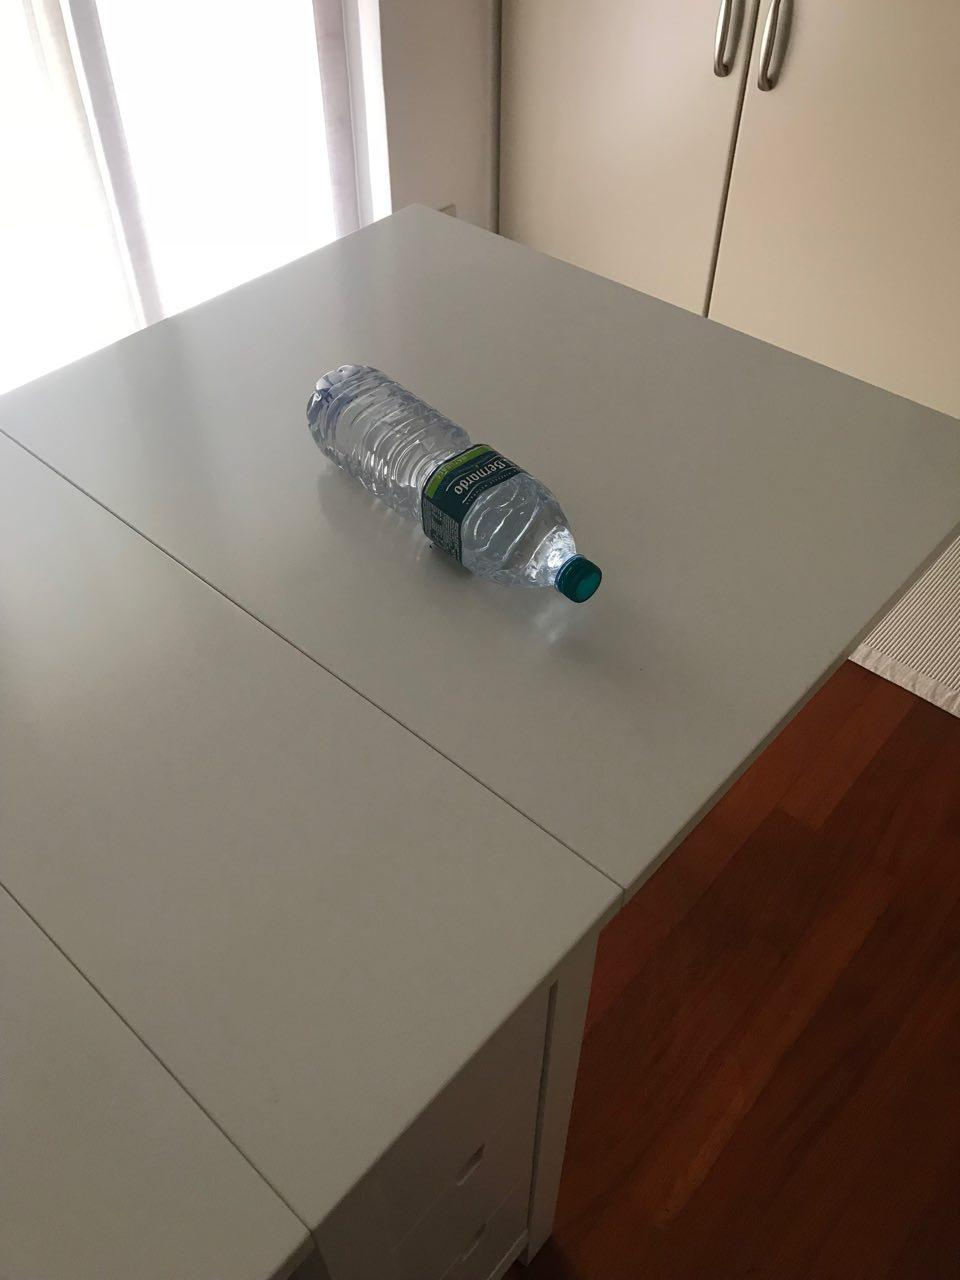san_bernardo: (305, 363, 605, 604)
